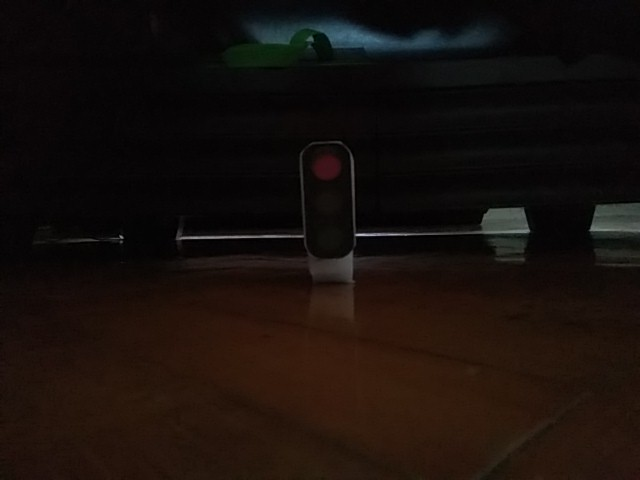Red Traffic Light: (301, 141, 354, 260)
